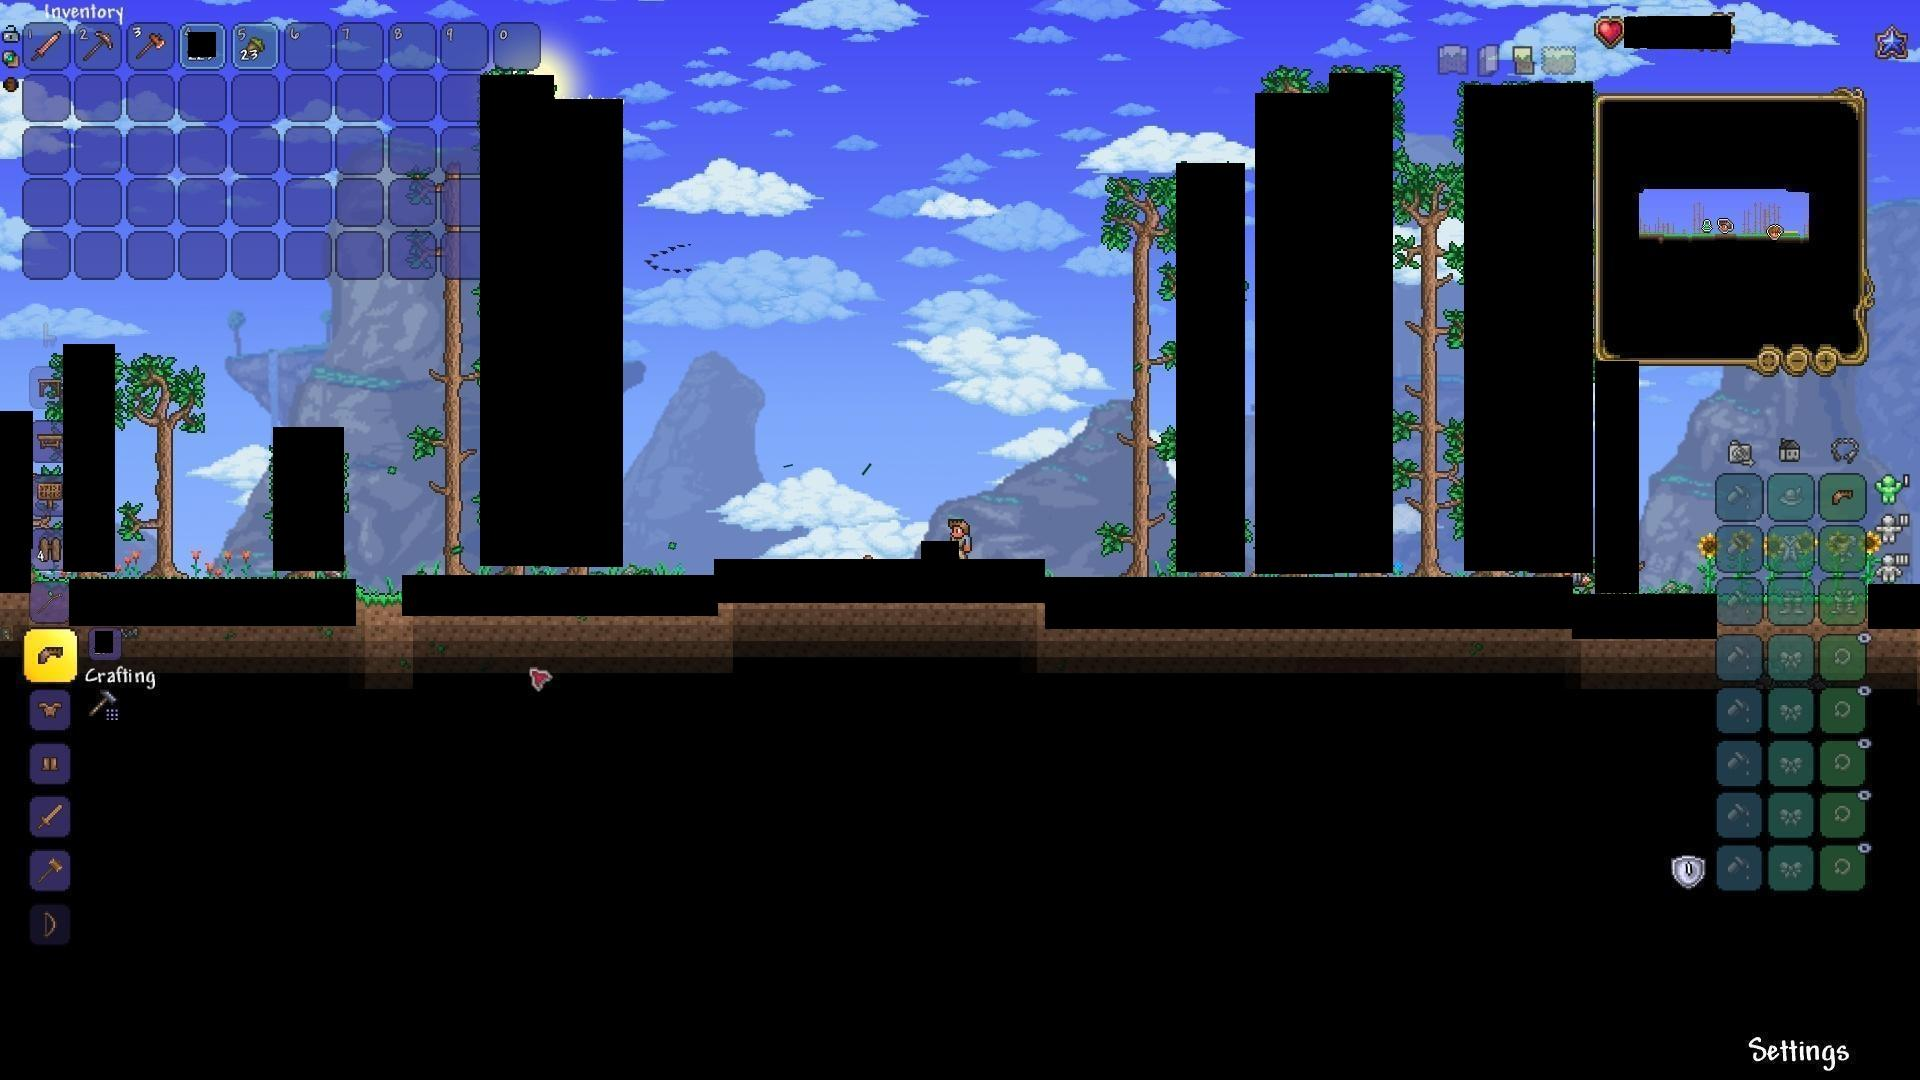breastplate: (37, 696, 65, 716)
dirt: (355, 587, 405, 613)
heart: (1596, 15, 1627, 45)
helmet: (34, 644, 65, 673), (1826, 483, 1858, 510)
legs: (38, 750, 63, 778)
tree: (1095, 174, 1172, 574), (1393, 156, 1465, 572), (417, 293, 469, 567), (135, 353, 196, 575)
